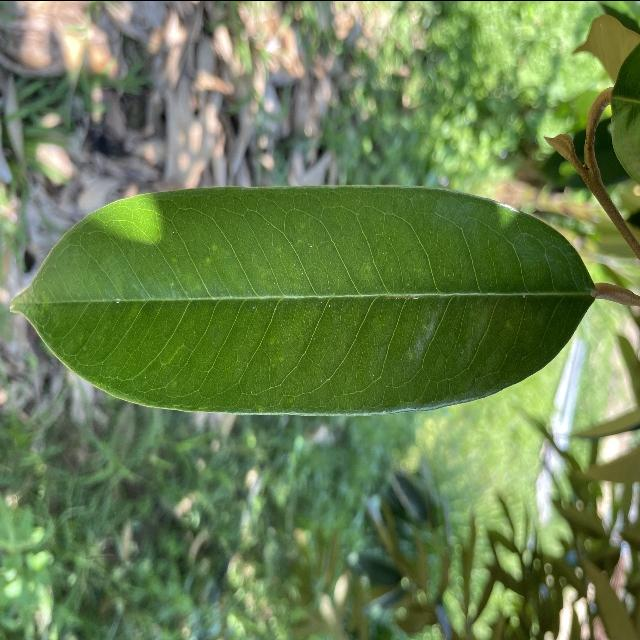No Disease: (1, 179, 607, 423)
